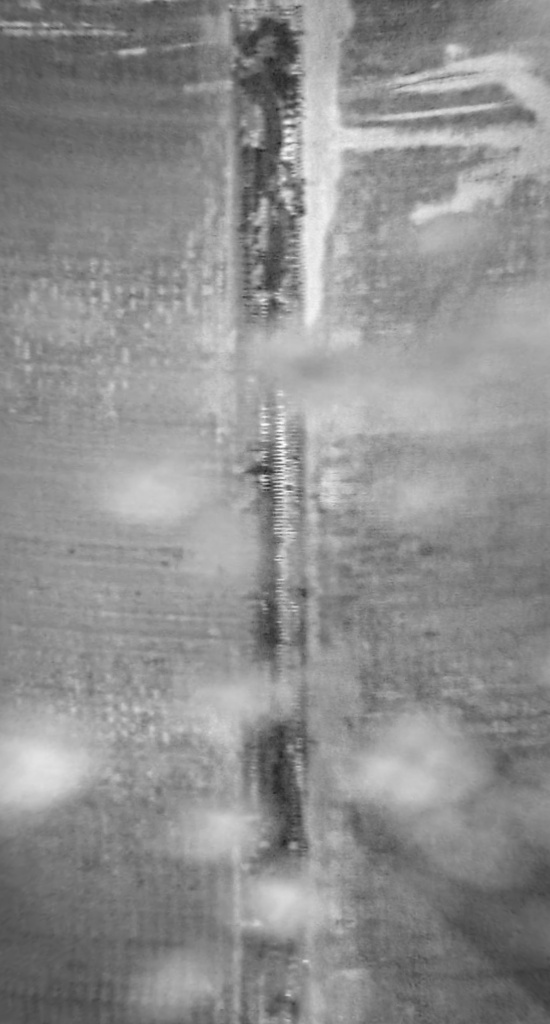splice: (221, 3, 318, 1023)
